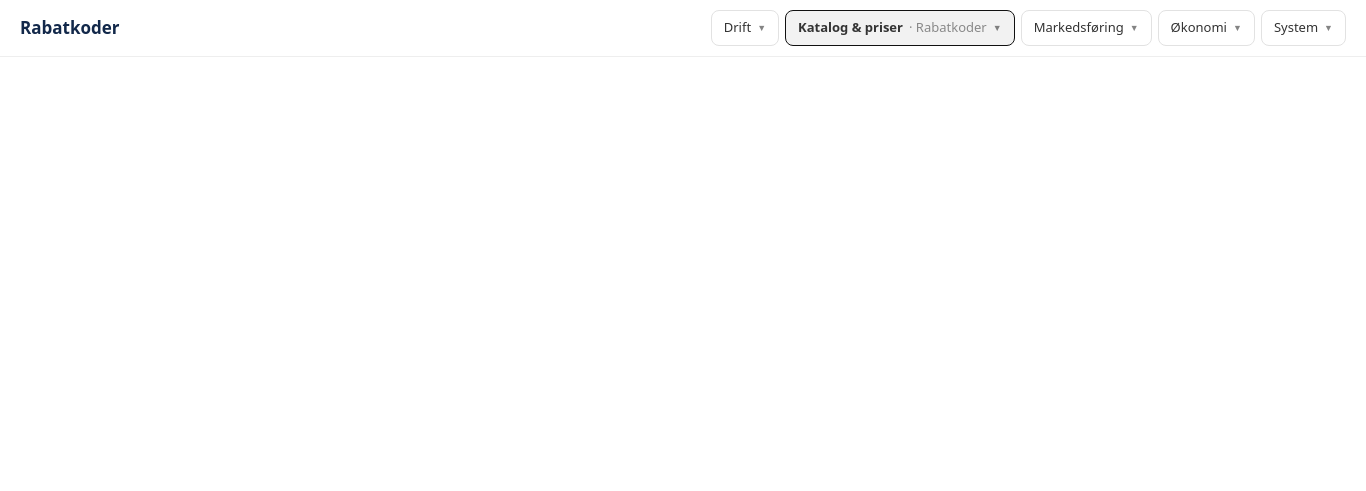
it: AdminNav › lukker igen på Escape og når man klikker udenfor
Click the button "Drift ▼": {"x": 745, "y": 28} [711, 10, 779, 46]
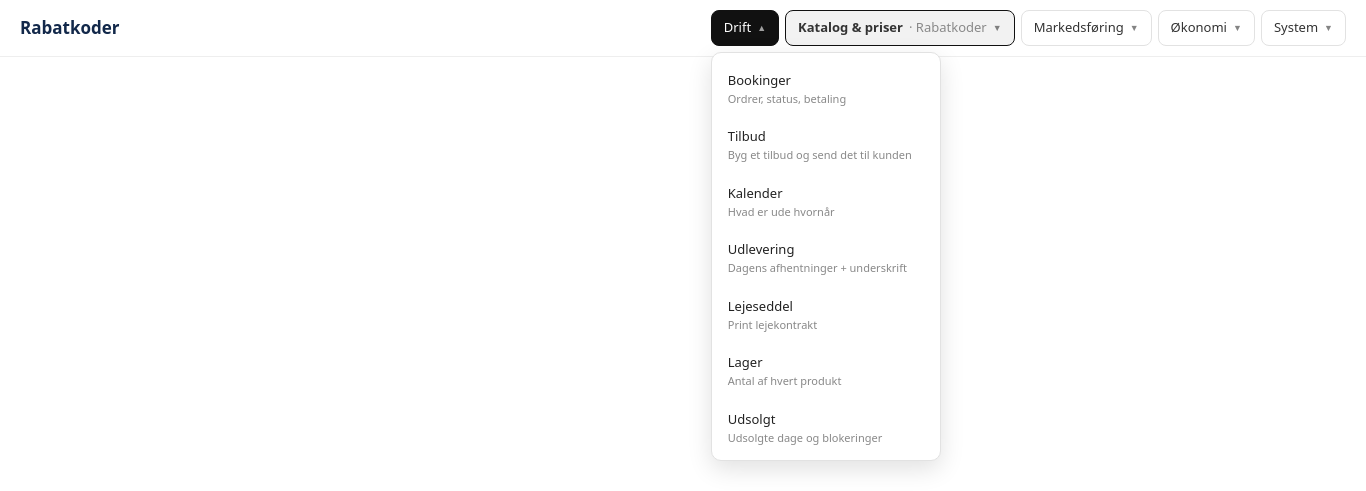
Now the menu named "Drift" is shown, box [711, 52, 941, 461]
Press Escape
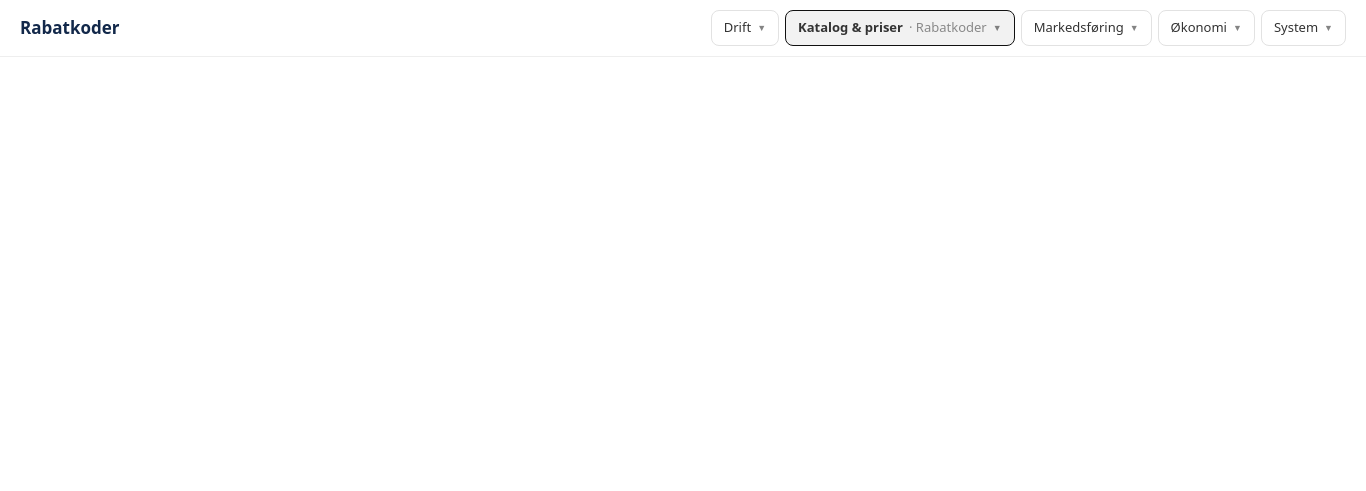
Now the menu is gone
Click the button "Drift ▼": {"x": 745, "y": 28} [711, 10, 779, 46]
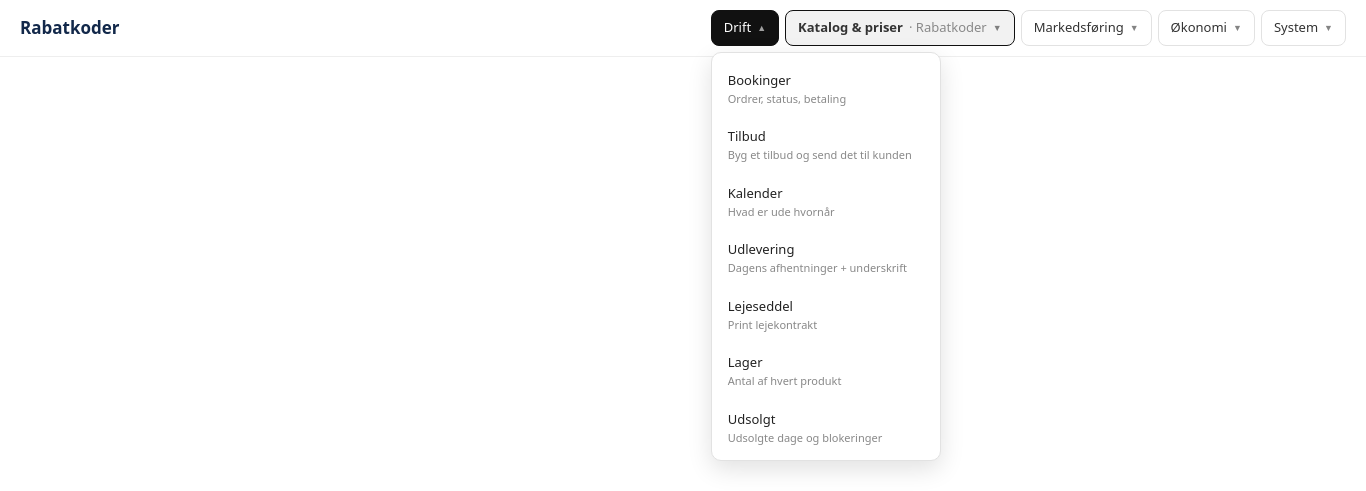
Press the mouse on the element that starts with "Rabatkoder": {"x": 683, "y": 28} [0, 0, 1365, 56]
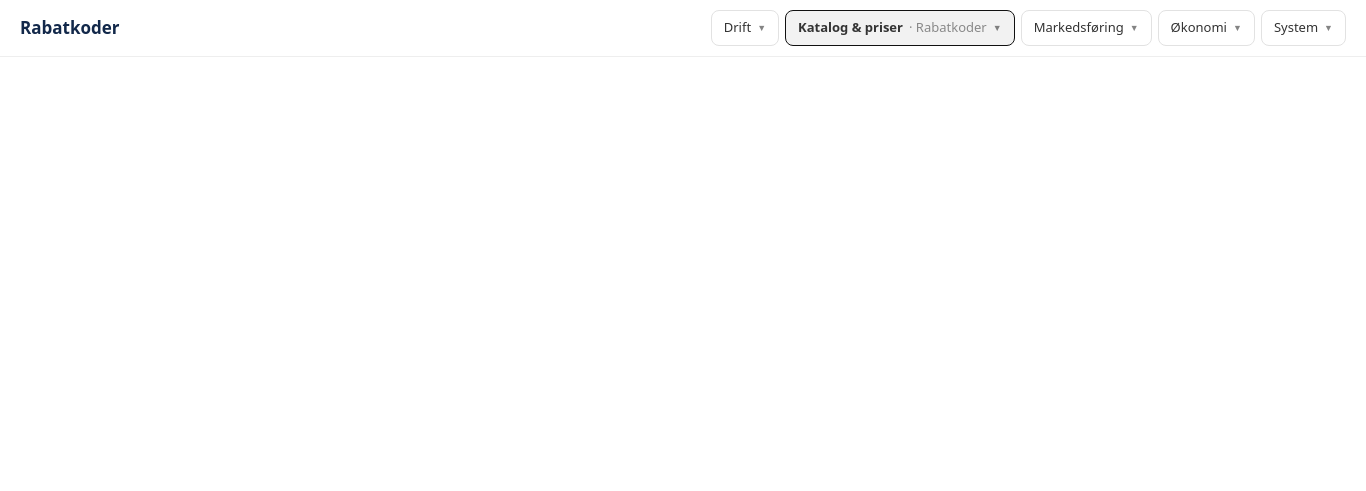
Now the menu is gone
